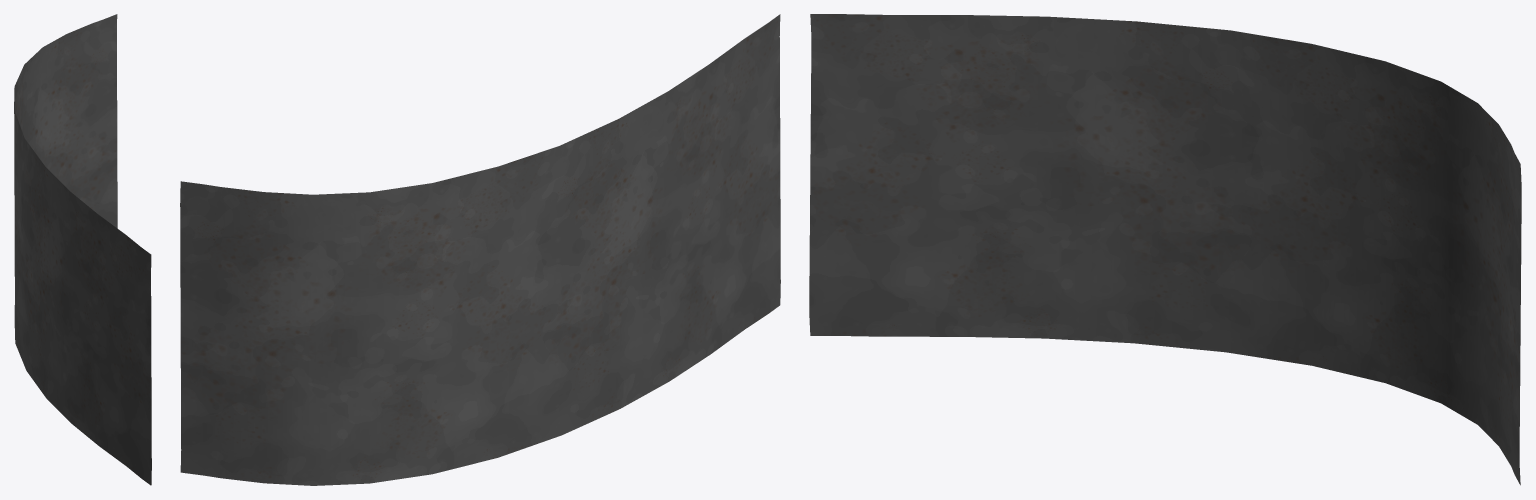
The model's file is MetalicWall3.fbx.
3 renders of one model, left to right at view 1: azimuth 30°, elevation 25°; view 2: azimuth 150°, elevation 25°; view 3: azimuth 270°, elevation 25°, orthographic. The views are drawn at different scales.
Visible parts, largest first — view 1: MetalicWall3; view 2: MetalicWall3; view 3: MetalicWall3.
Part boxes in pixels (x1=…): MetalicWall3: x1=14, y1=14, x2=151, y2=485; MetalicWall3: x1=180, y1=14, x2=780, y2=485; MetalicWall3: x1=809, y1=14, x2=1521, y2=485.
Size of the model in its own units: 200 by 200 by 401.
